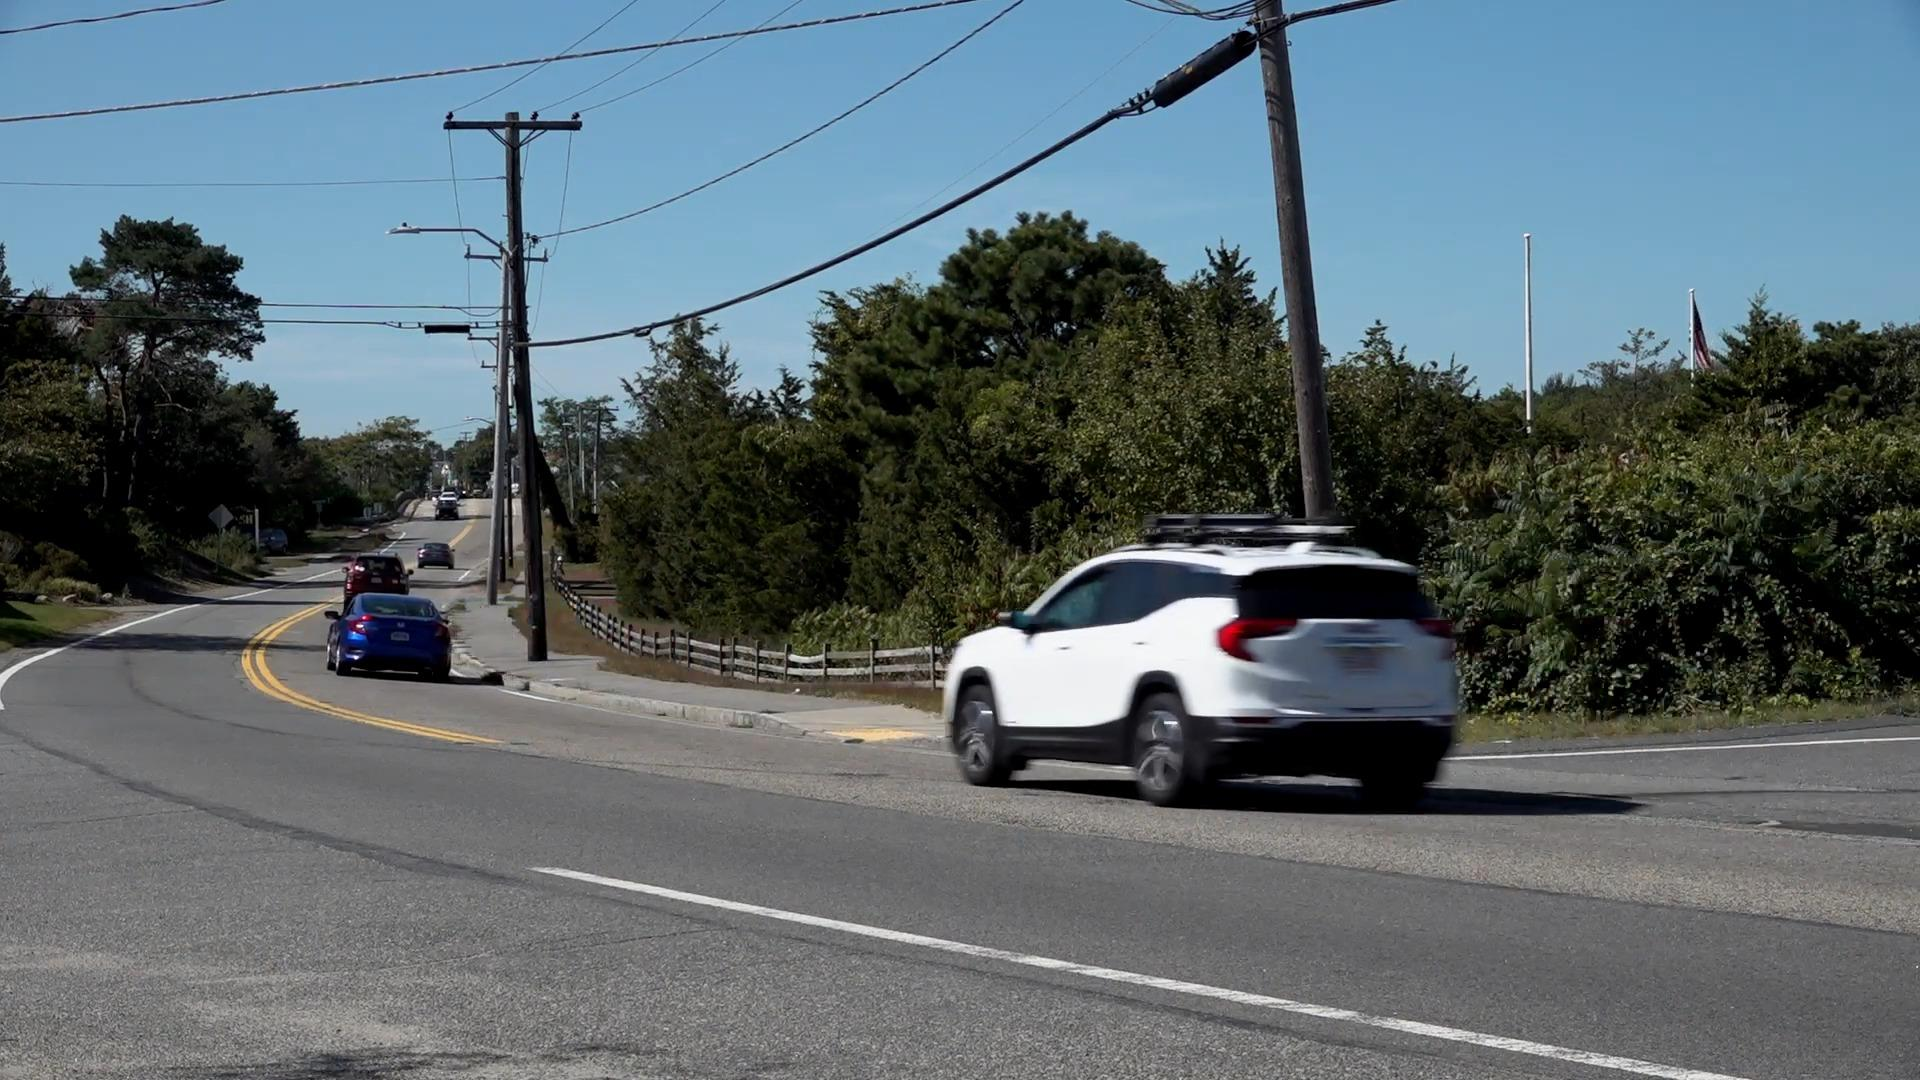sedans: (332, 588, 454, 683)
suv: (940, 518, 1466, 808)
